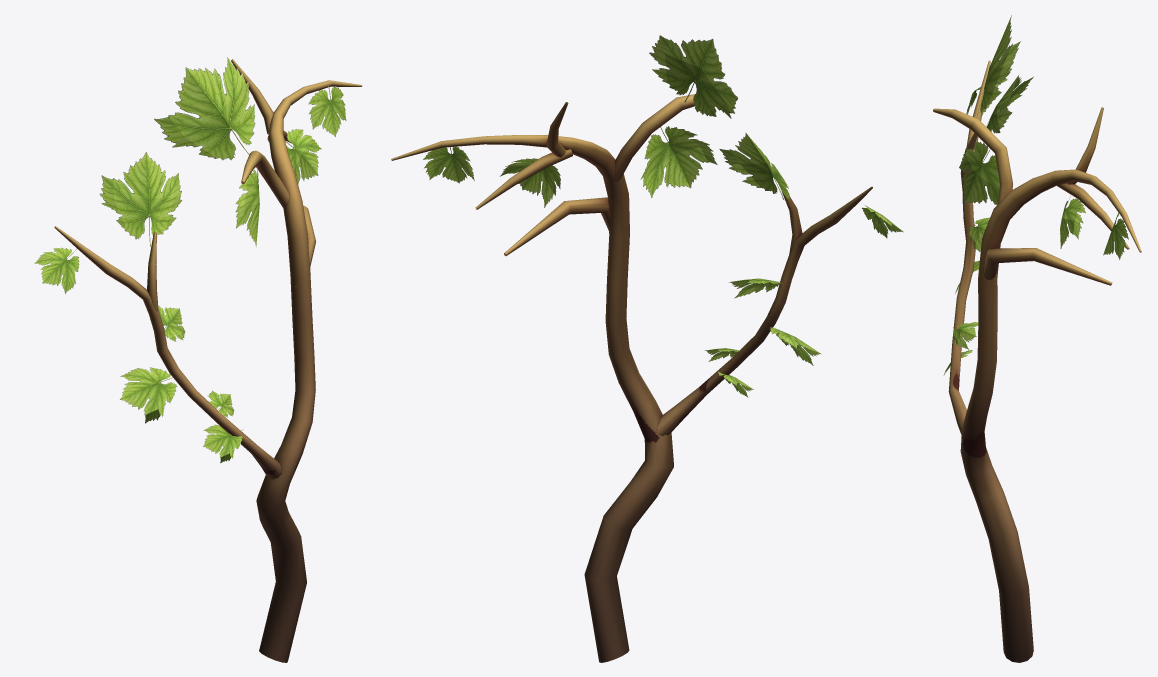
File: Grape_Stage_2.fbx
3 views of the same model, side by side, from view 1: azimuth 30°, elevation 25°; view 2: azimuth 150°, elevation 25°; view 3: azimuth 270°, elevation 25° (orthographic). The views are drawn at different scales.
Visible parts, largest first — view 1: NurbsPath.001; view 2: NurbsPath.001; view 3: NurbsPath.001.
Part boxes in pixels (x1,y1,x2,y2): NurbsPath.001: [34, 57, 362, 662]; NurbsPath.001: [391, 35, 903, 662]; NurbsPath.001: [933, 15, 1141, 662].
Bounding box in the file's own units: 123 × 181 × 55.41.
Materials: 2 (2 with a texture image).
